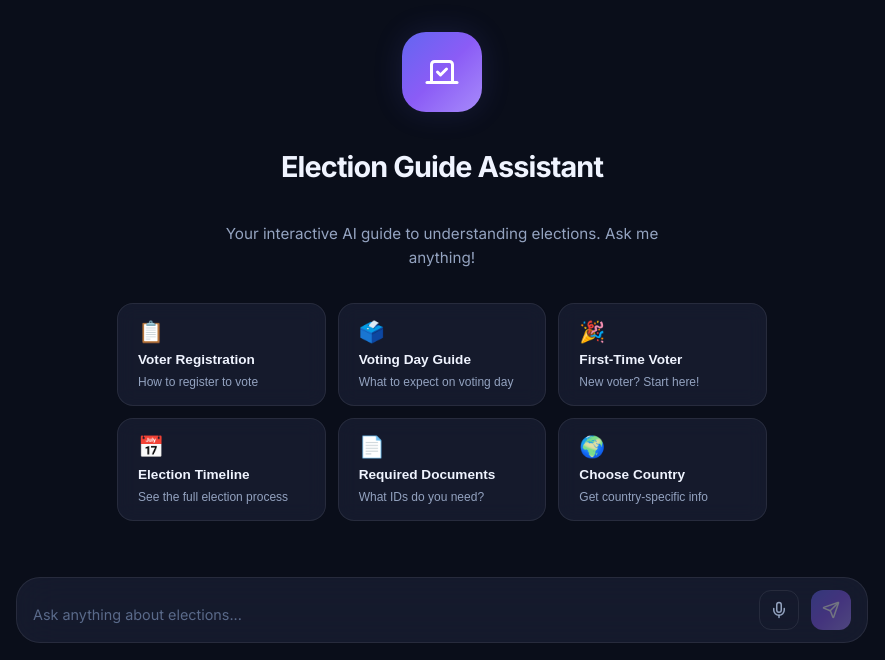
Scenario: Chat Flow Integration › sends a message and receives AI response
The image size is (885, 660).
In the text box: (390, 615) [33,600,747,630], type "How do I register?"
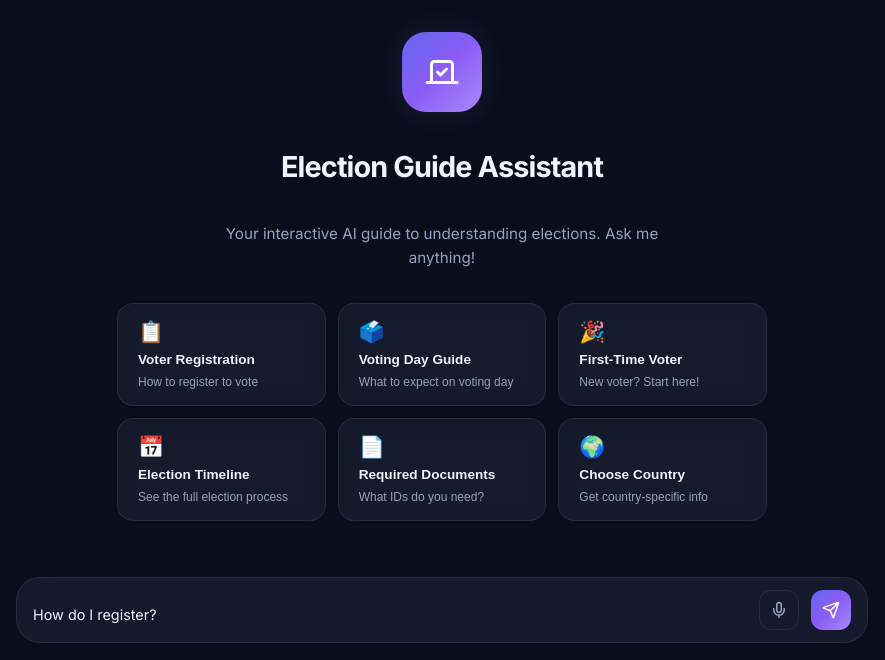
Click the button named "send message": (831, 610) [811,590,851,630]
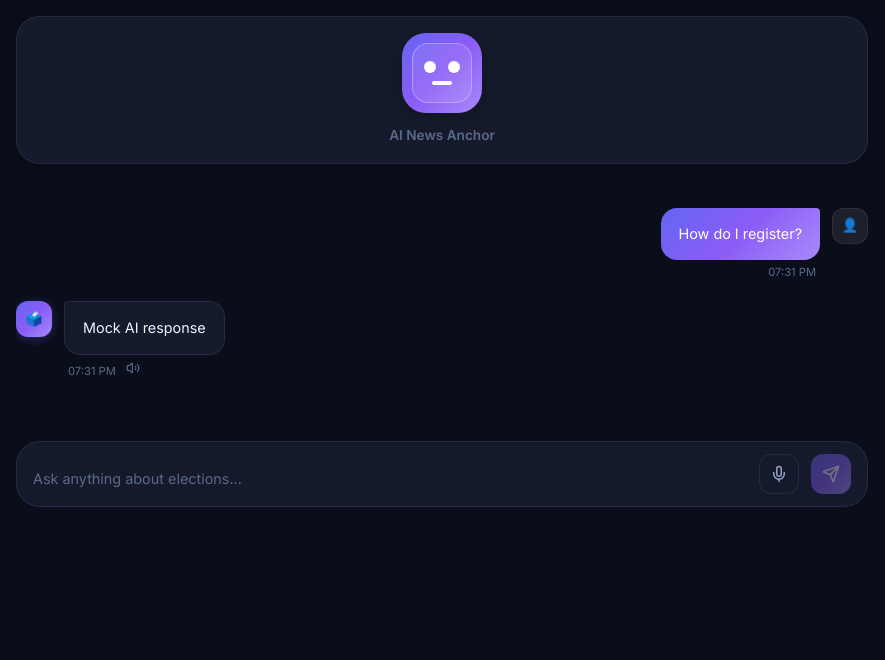
Result: the text "How do I register?" is shown at [660,208,820,260]
Result: the text "Mock AI response" is shown at [83,316,206,340]
